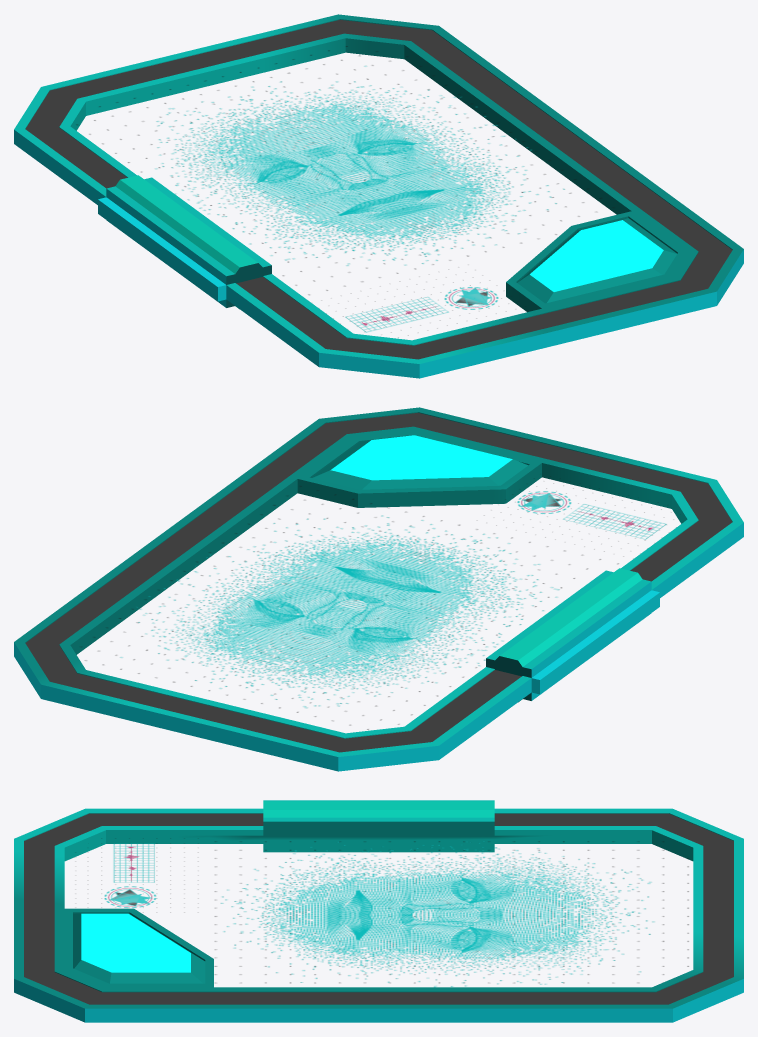
The model's file is Face_Access_Card.glb.
3 renders of one model, top to bottom at view 1: azimuth 30°, elevation 25°; view 2: azimuth 150°, elevation 25°; view 3: azimuth 270°, elevation 25°, orthographic. The views are drawn at different scales.
Visible parts, largest first — view 1: SciFiKey_FaceID; view 2: SciFiKey_FaceID; view 3: SciFiKey_FaceID.
Boxes of the visible parts, x1,y1,x2,y2 form: SciFiKey_FaceID: (14,14,743,378); SciFiKey_FaceID: (14,407,743,771); SciFiKey_FaceID: (14,800,743,1022).
Size of what is drawn, in the model's own units: 0.6157 by 0.0572 by 0.931.
2 materials, 2 textured.
